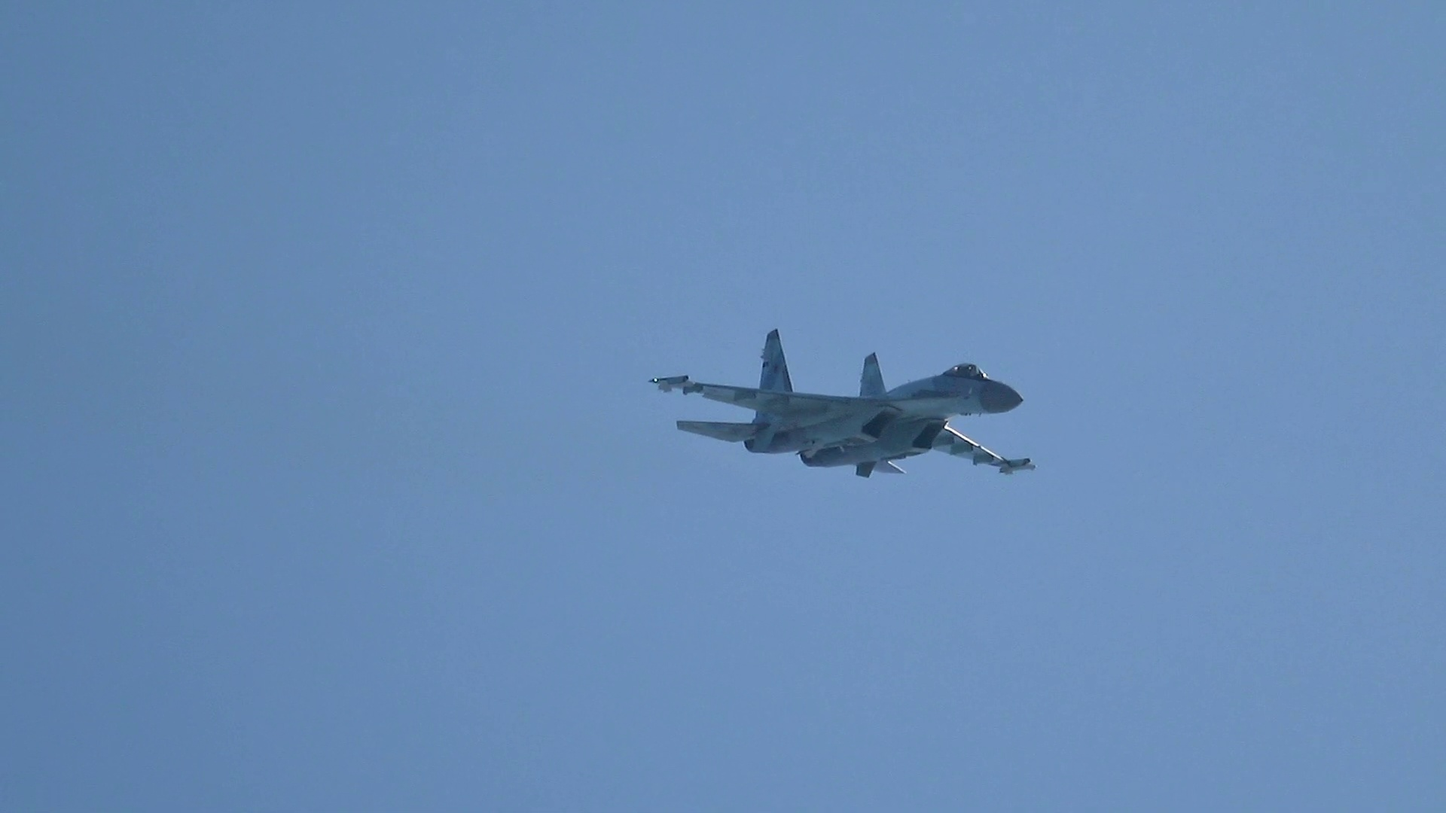Su35: (647, 328, 1037, 479)
